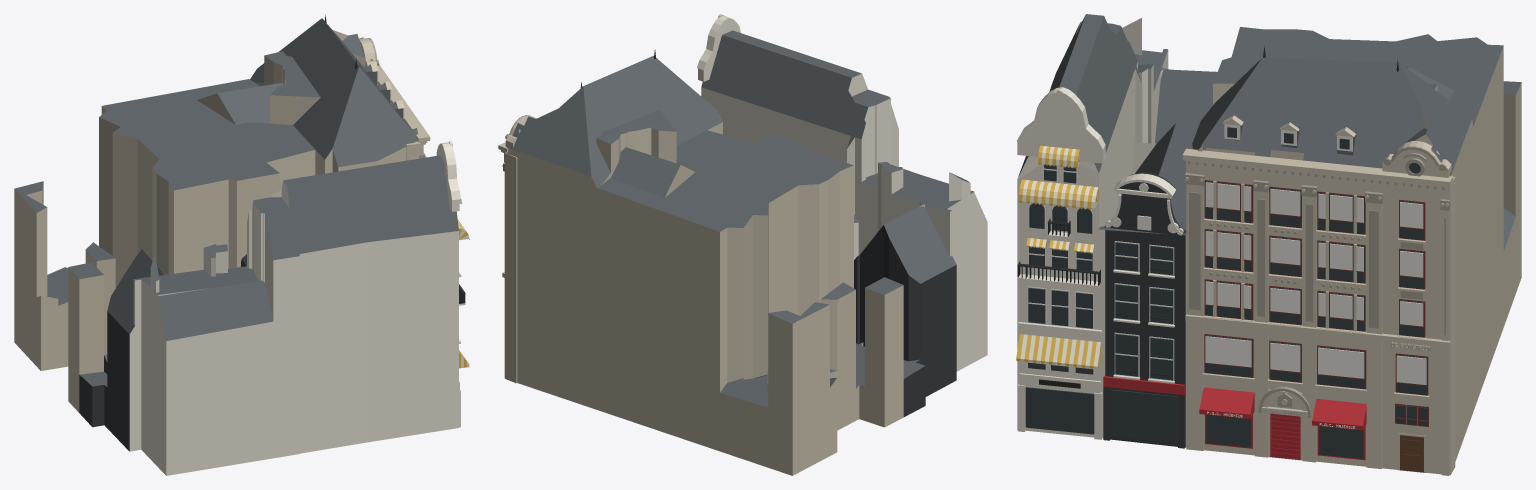
The model's file is hajenius-rokin.glb.
The picture shows the model from 3 angles, left to right: view 1: azimuth 30°, elevation 25°; view 2: azimuth 150°, elevation 25°; view 3: azimuth 270°, elevation 25°; orthographic projection. The views are drawn at different scales.
Visible parts, largest first — view 1: hajenius-rokin; view 2: hajenius-rokin; view 3: hajenius-rokin.
Boxes of the visible parts, box(x1,y1,x2,y2) form: hajenius-rokin: box(14, 14, 469, 475); hajenius-rokin: box(498, 14, 987, 475); hajenius-rokin: box(1016, 14, 1521, 475).
Size of the model in its own units: 31.81 by 25.75 by 30.94.
